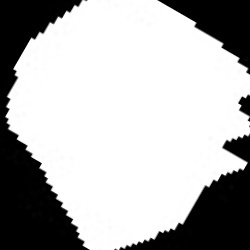spot: (7, 2, 250, 249)
